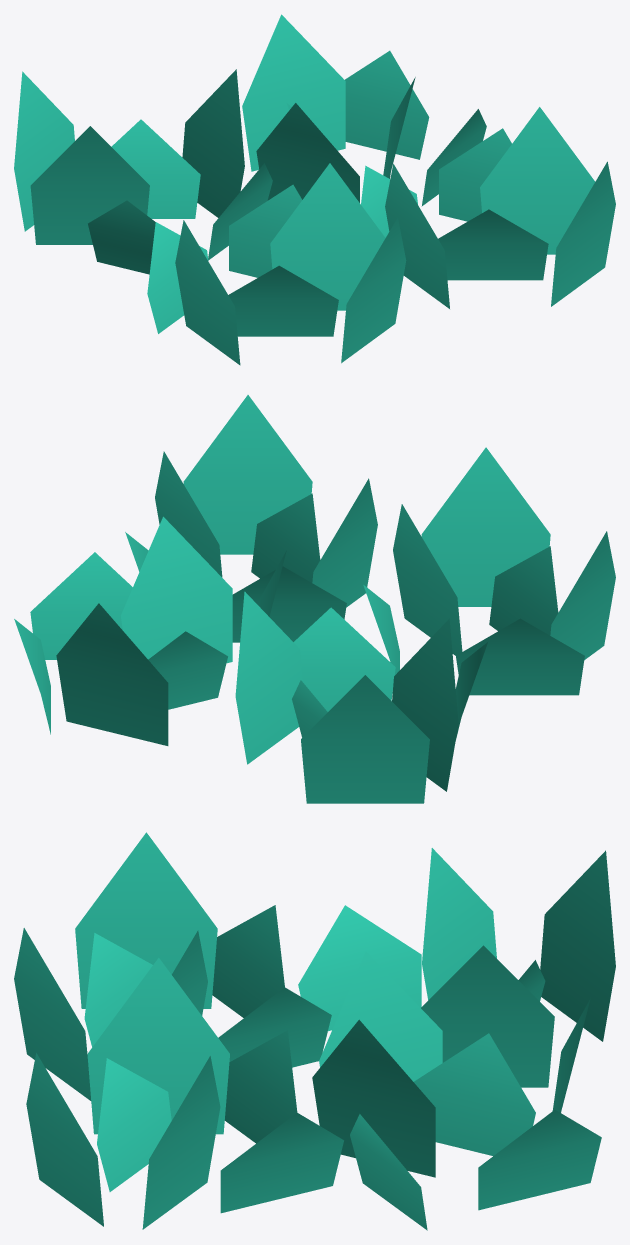
Rendered from grass_leafsLarge.dae.
The picture shows the model from 3 angles, top to bottom: view 1: azimuth 30°, elevation 25°; view 2: azimuth 150°, elevation 25°; view 3: azimuth 270°, elevation 25°; orthographic projection. The views are drawn at different scales.
Visible parts, largest first — view 1: grass_leafsLarge; view 2: grass_leafsLarge; view 3: grass_leafsLarge.
Part boxes in pixels (<box>): grass_leafsLarge: <box>14,14,615,365</box>; grass_leafsLarge: <box>14,395,615,803</box>; grass_leafsLarge: <box>14,832,615,1230</box>.
Bounding box in the file's own units: 0.4759 × 0.1425 × 0.4873.
